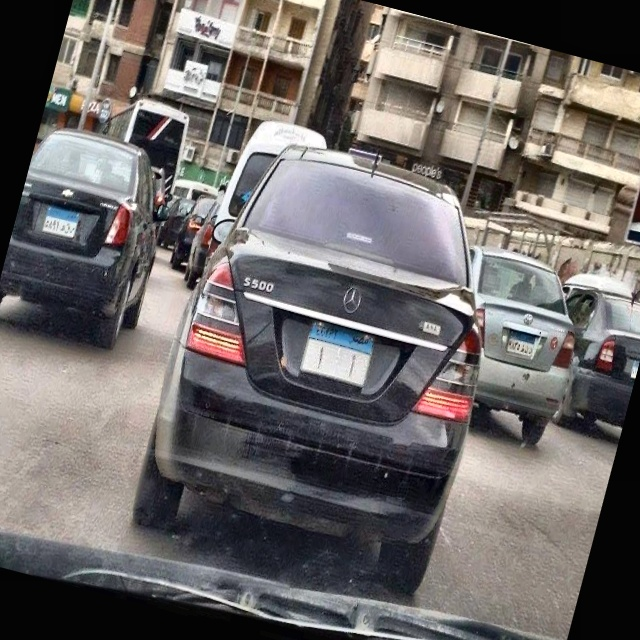License Plate: (297, 318, 379, 390)
